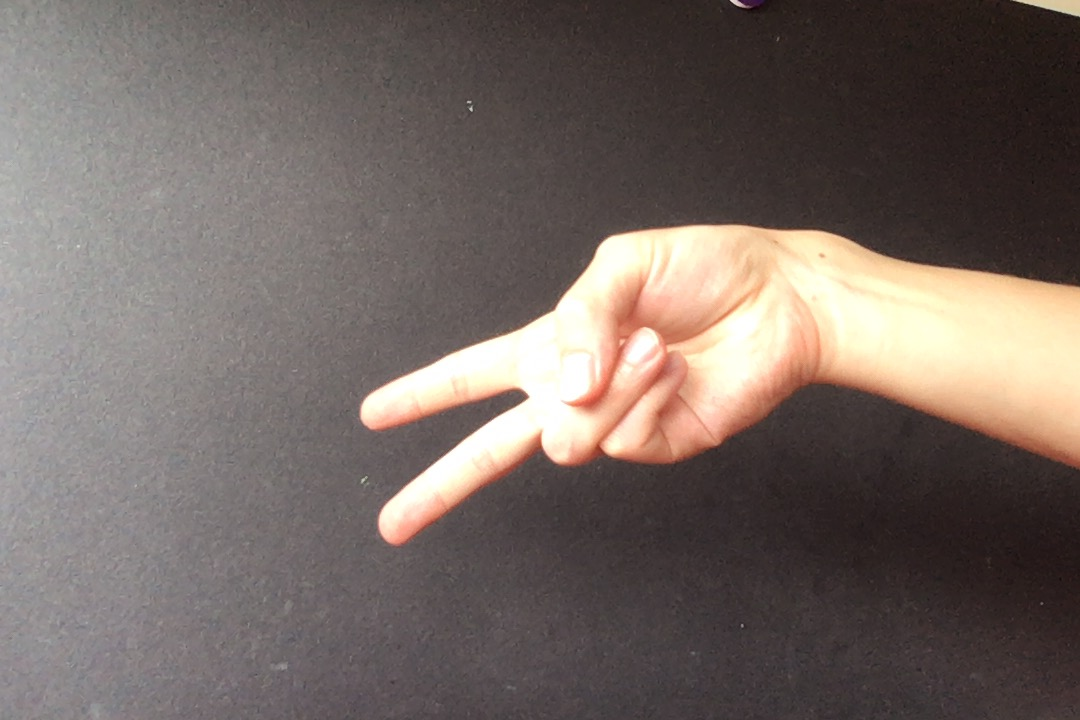peacesign: (351, 216, 830, 558)
